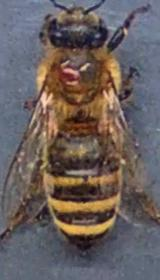varroa_mite: (48, 54, 88, 96)
